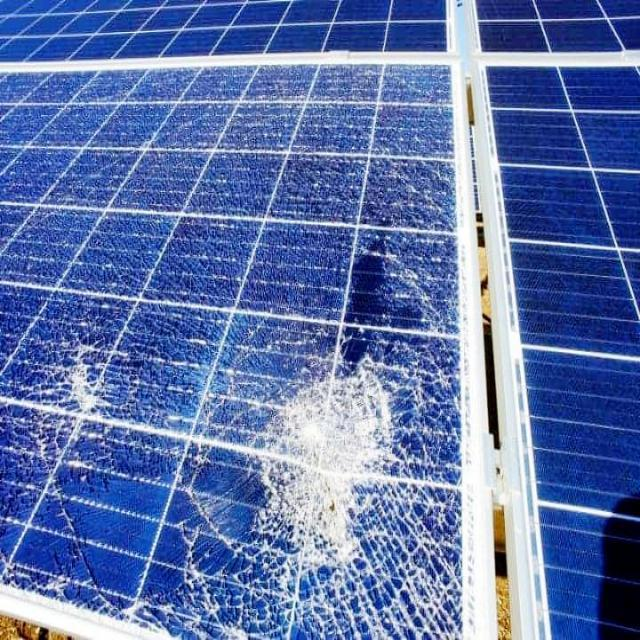faulty: (0, 55, 484, 640)
no faulty: (472, 63, 638, 640), (1, 2, 451, 62), (470, 0, 640, 46)
